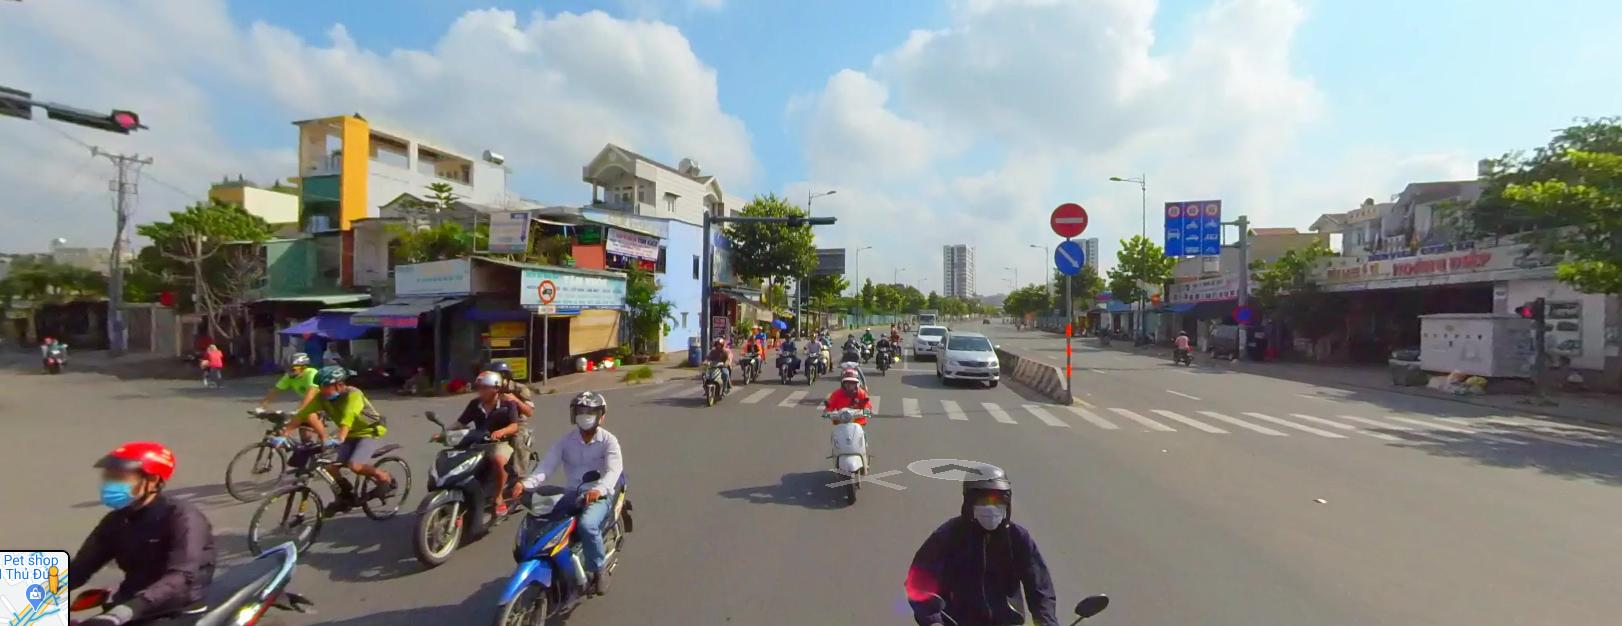Cam con lai: (538, 277, 557, 302)
Cam dung va do: (1233, 301, 1256, 323)
Cam nguoc chieu: (1044, 200, 1091, 236)
Gioi han toc do: (1166, 202, 1180, 216), (1185, 202, 1198, 215), (1205, 201, 1216, 214)
Hieu lenh: (1052, 238, 1085, 274)
